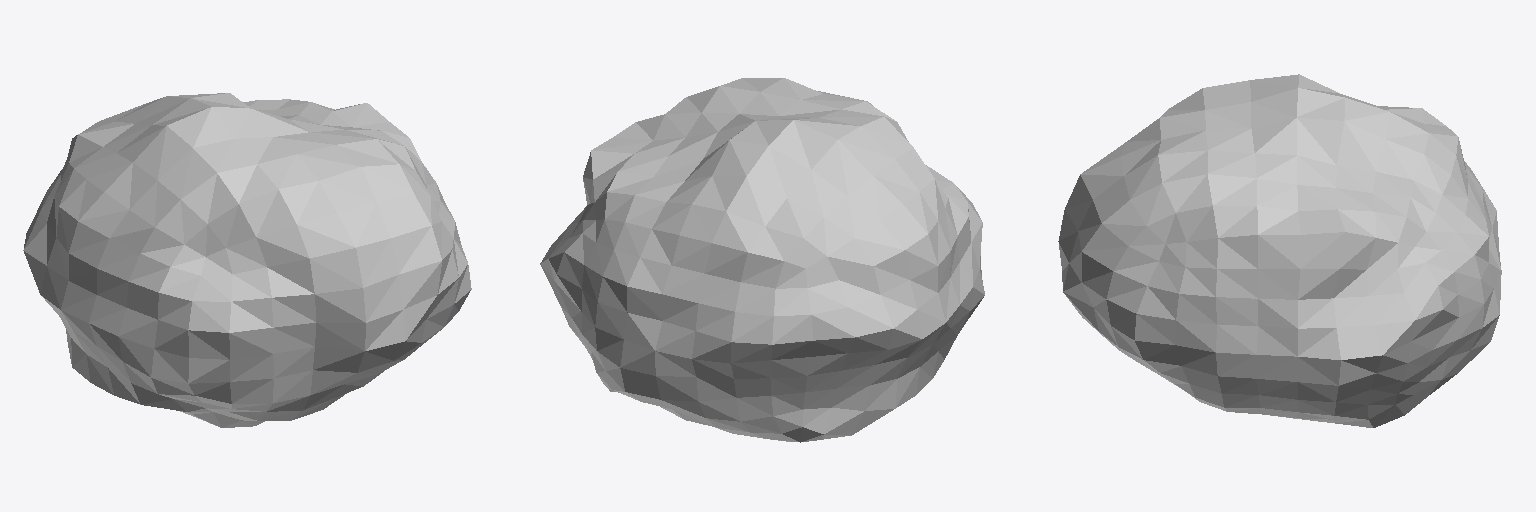
The model's file is Rock1.obj.
The picture shows the model from 3 angles: view 1: azimuth 30°, elevation 25°; view 2: azimuth 150°, elevation 25°; view 3: azimuth 270°, elevation 25°; orthographic projection.
Parts seen in each view (by area): view 1: initialShadingGroup Mesh, Mesh; view 2: initialShadingGroup Mesh, Mesh; view 3: initialShadingGroup Mesh.
Part boxes in pixels (x1,y1,x2,y2): initialShadingGroup Mesh: (23, 93, 471, 427); Mesh: (56, 207, 77, 252); initialShadingGroup Mesh: (540, 78, 984, 442); Mesh: (905, 235, 937, 279); initialShadingGroup Mesh: (1058, 74, 1501, 427).
Bounding box in the file's own units: 1.94 × 1.5 × 1.99.